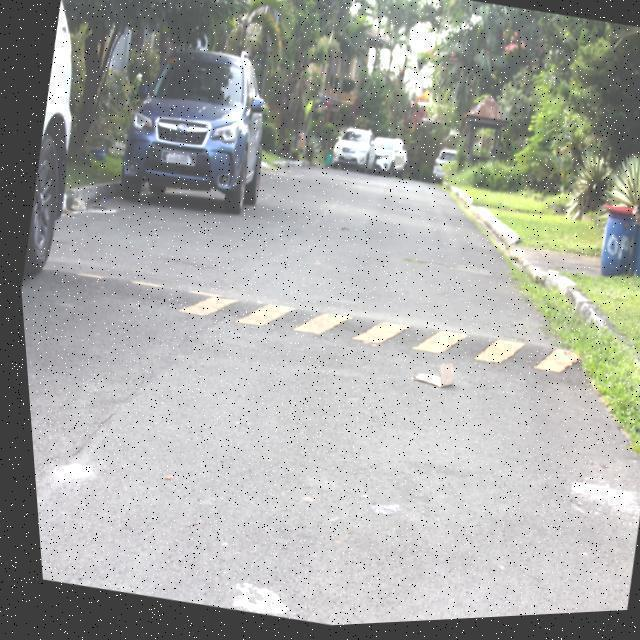Paper_Bag: (403, 360, 452, 396)
